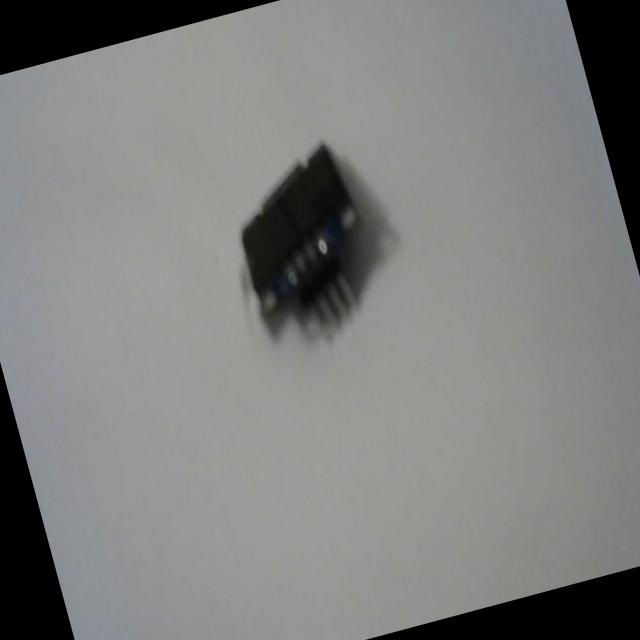oled: (202, 115, 406, 364)
